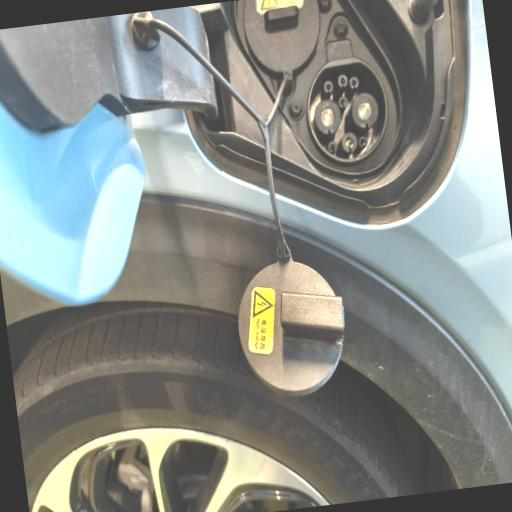DC_charging_port: (300, 53, 396, 170)
DC_hole: (348, 91, 380, 130), (312, 98, 344, 136)
PE: (340, 132, 358, 154)
